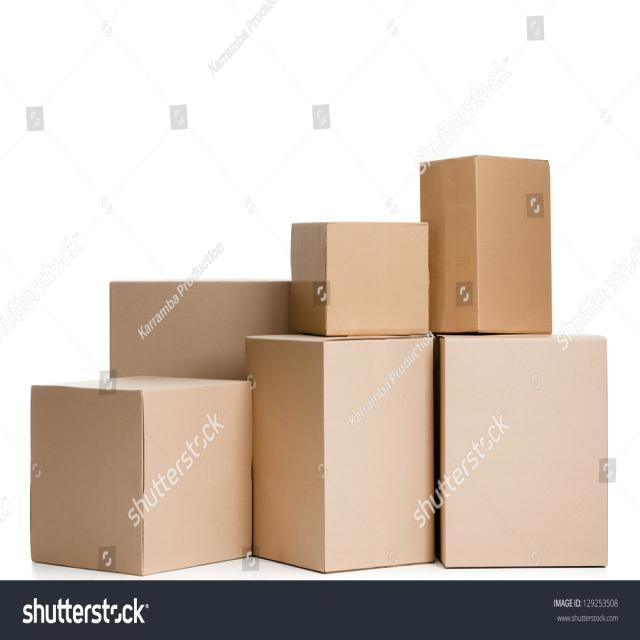BoxFace: (440, 334, 610, 571), (320, 334, 435, 575), (27, 384, 144, 577), (110, 278, 290, 382), (476, 154, 552, 338), (324, 218, 431, 342)
